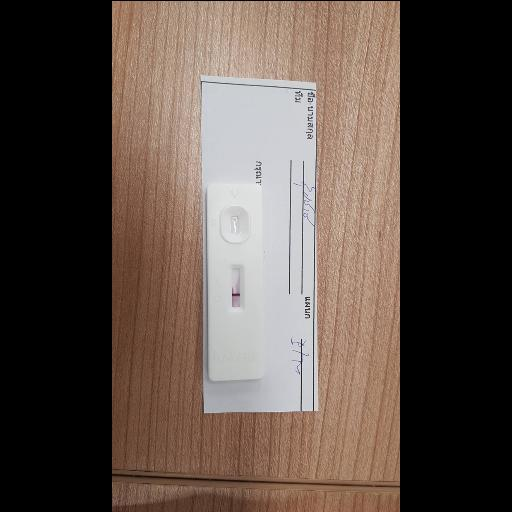Neg: (207, 182, 259, 378)
